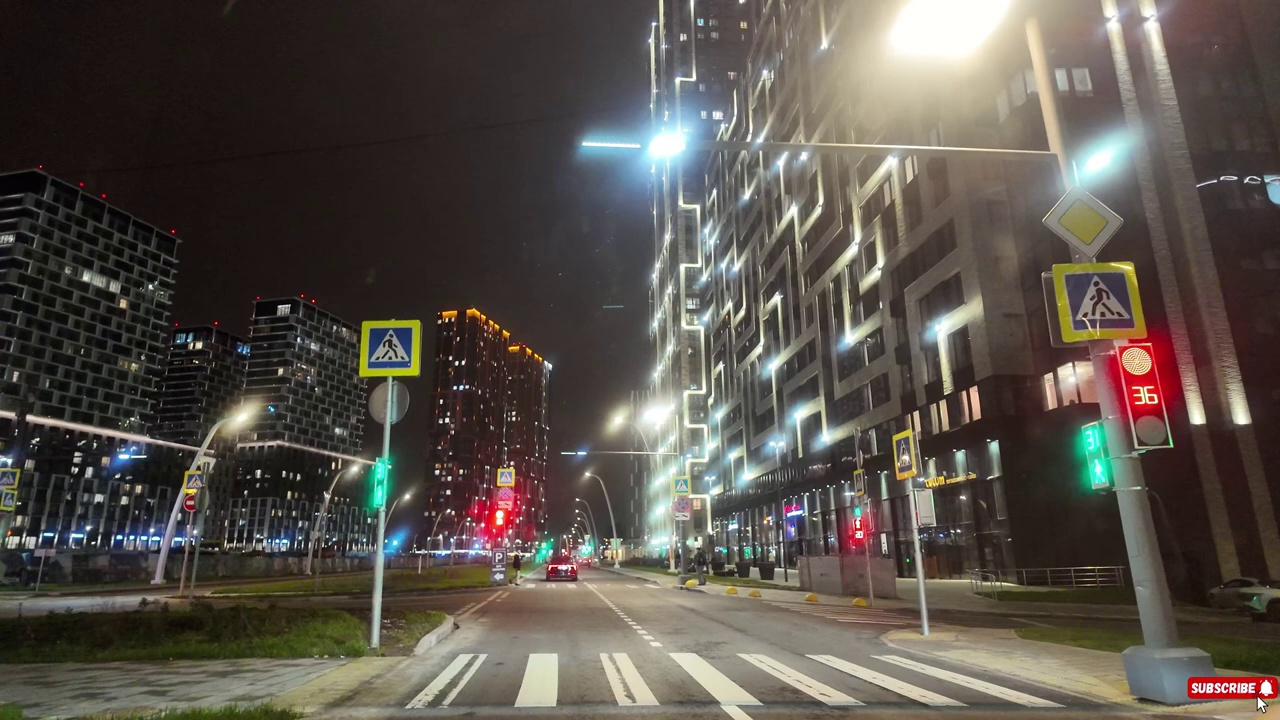acesa: (883, 6, 1018, 78), (218, 398, 261, 441), (602, 403, 638, 443), (647, 128, 683, 165)
